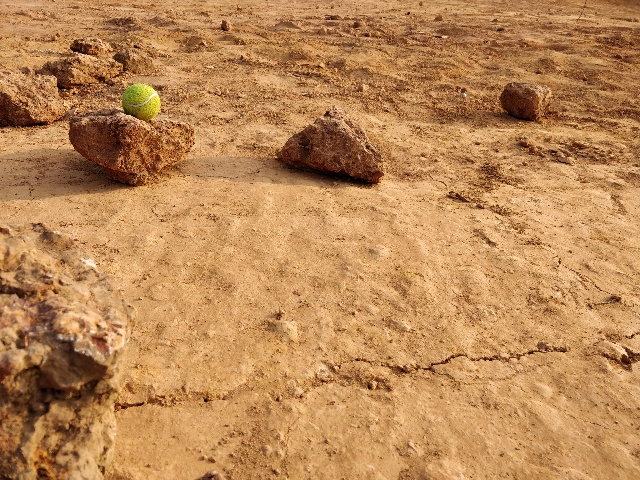ball: (118, 81, 166, 122)
